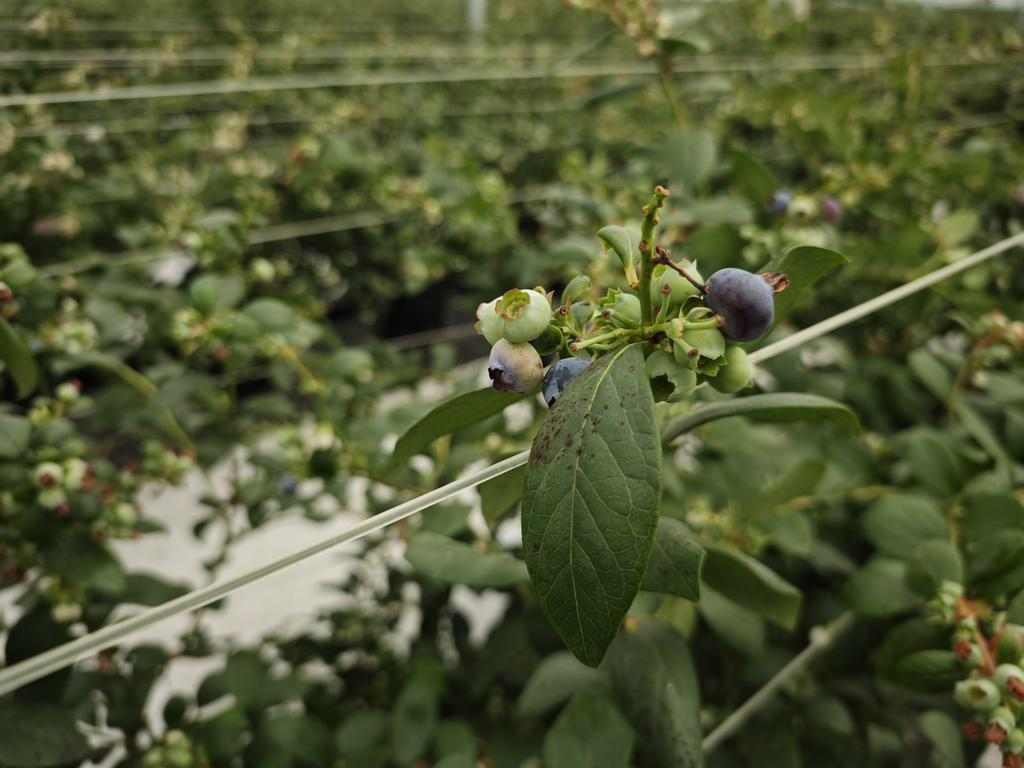RipeBlueBerry: (706, 268, 781, 343)
UnripeBlueBerry: (491, 287, 553, 342), (486, 341, 545, 397)
